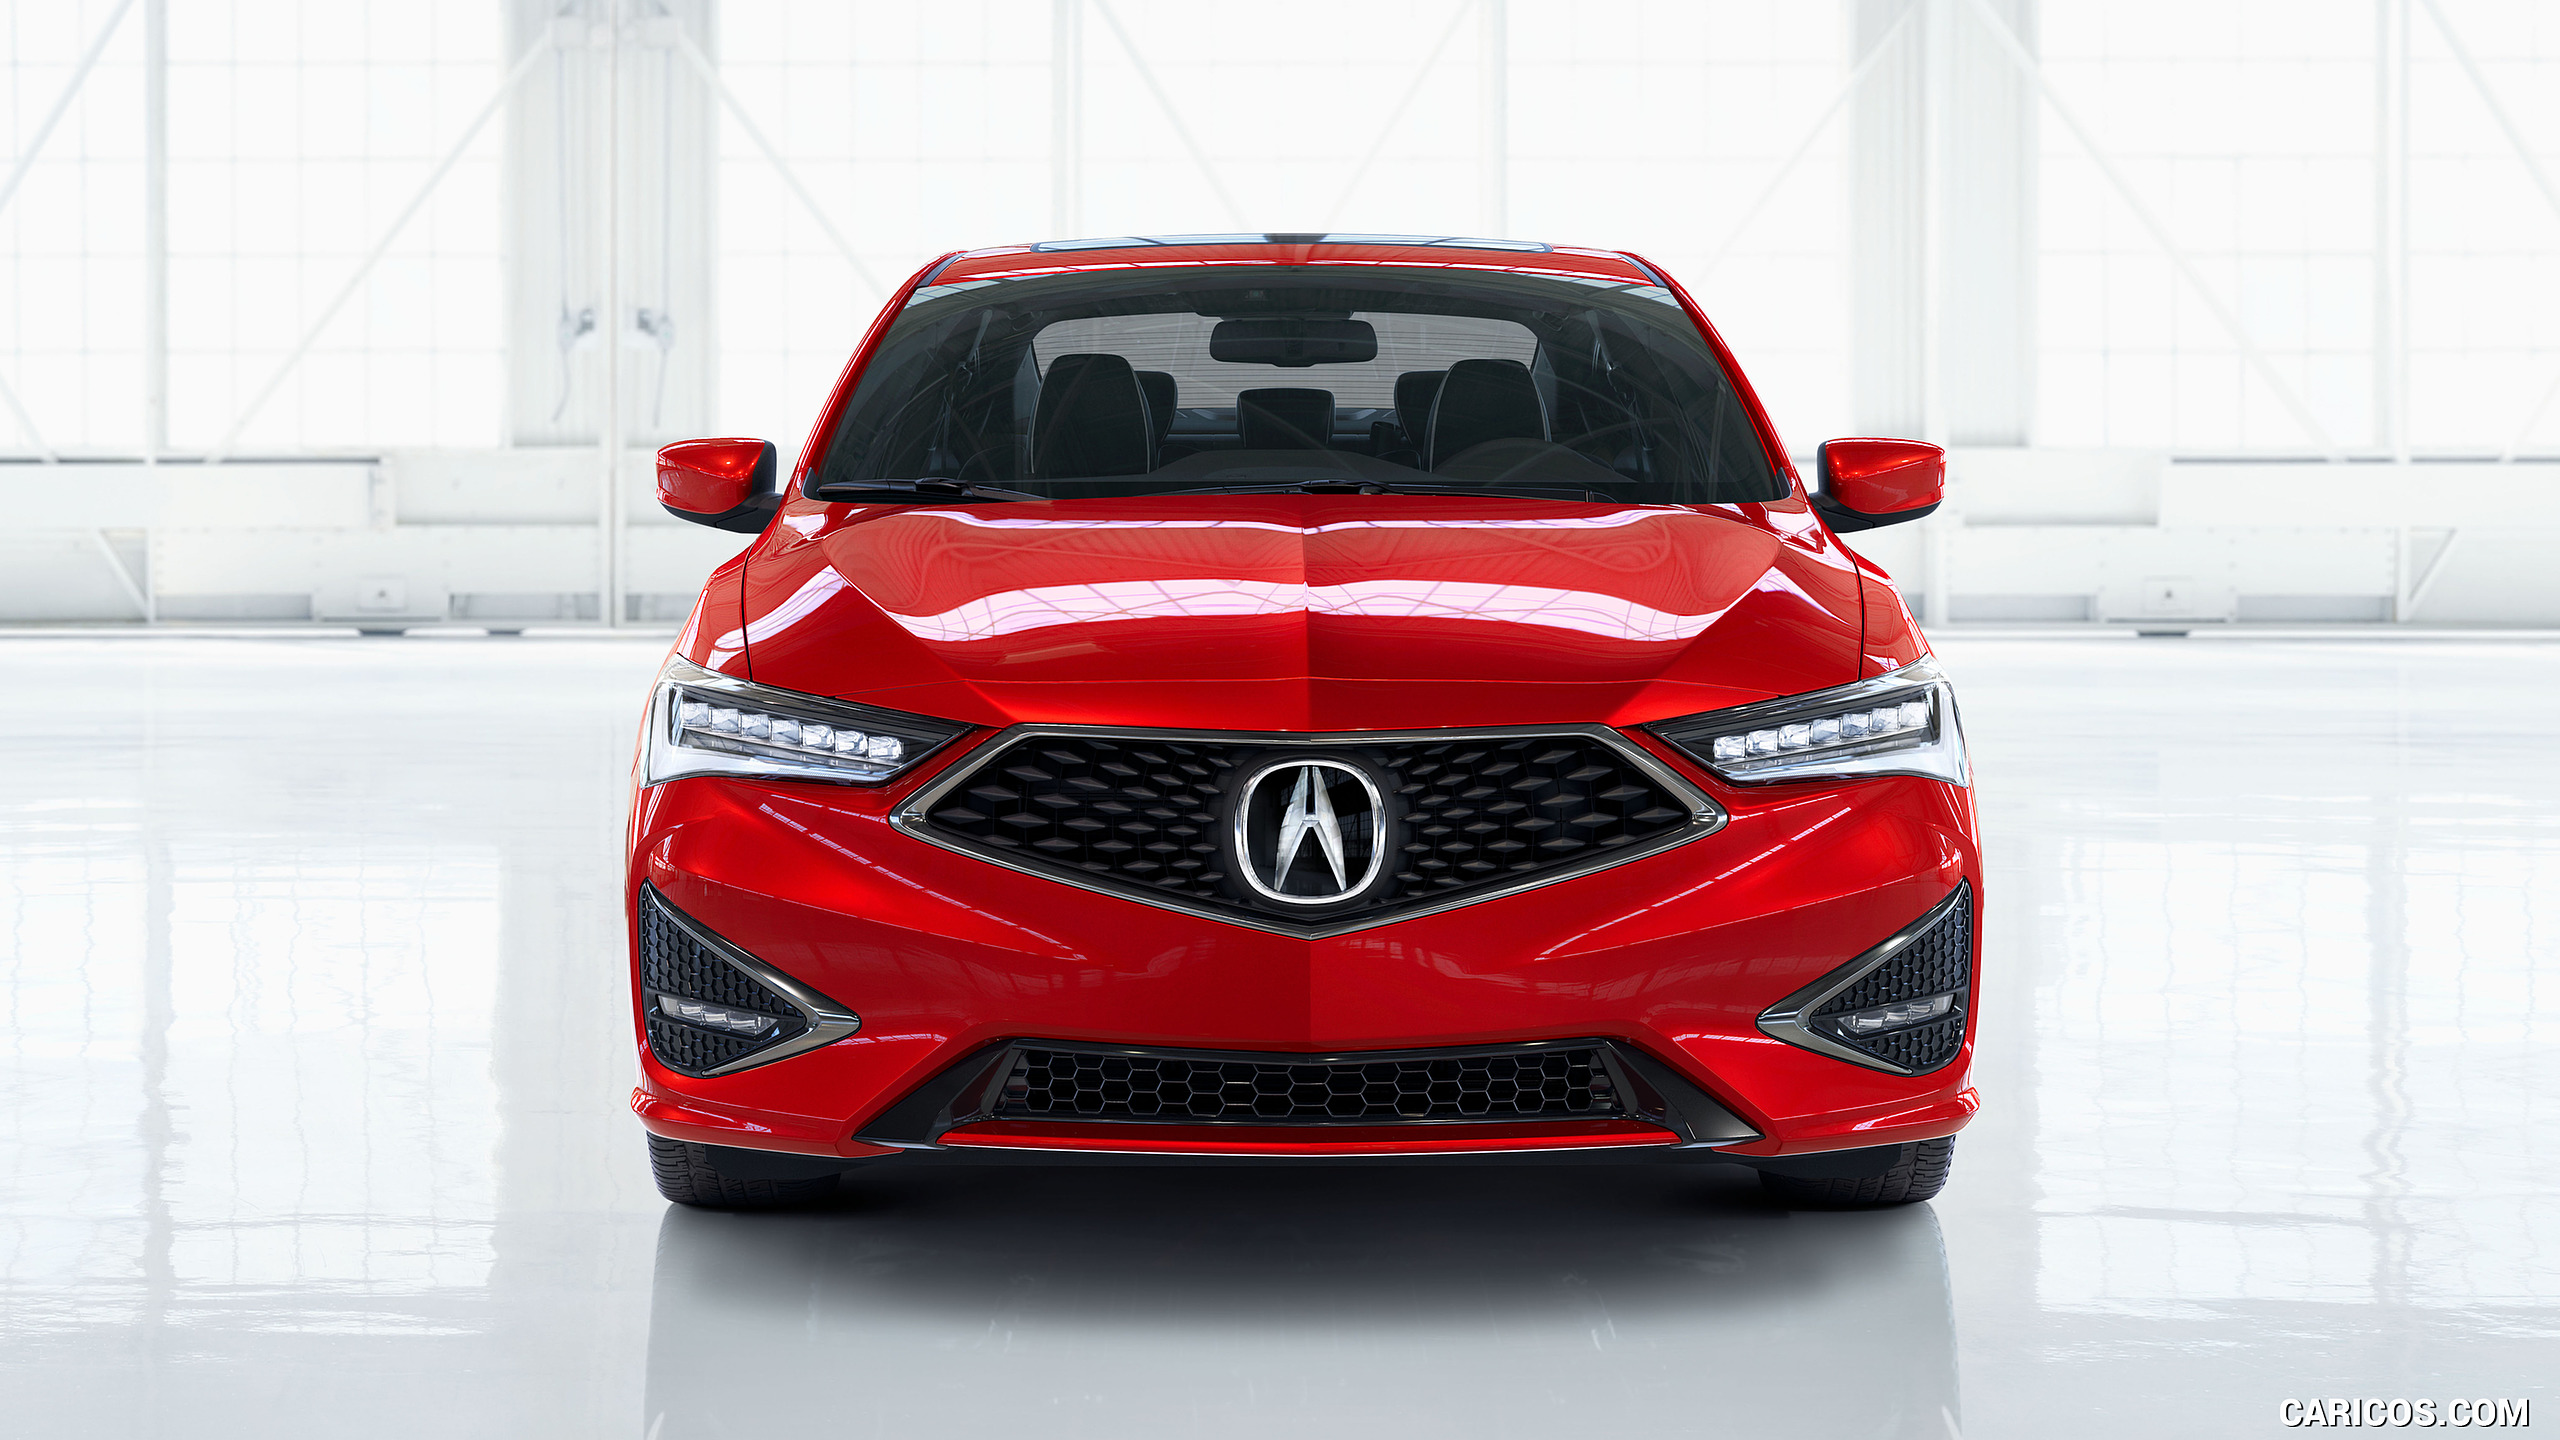Fog Lamp & Scope: (1788, 895, 1980, 1071)
Front: (636, 520, 1980, 1155)
Front Bumper: (635, 890, 1982, 1155)
Grill: (935, 730, 1688, 914)
Headlight: (1690, 675, 1962, 788)
